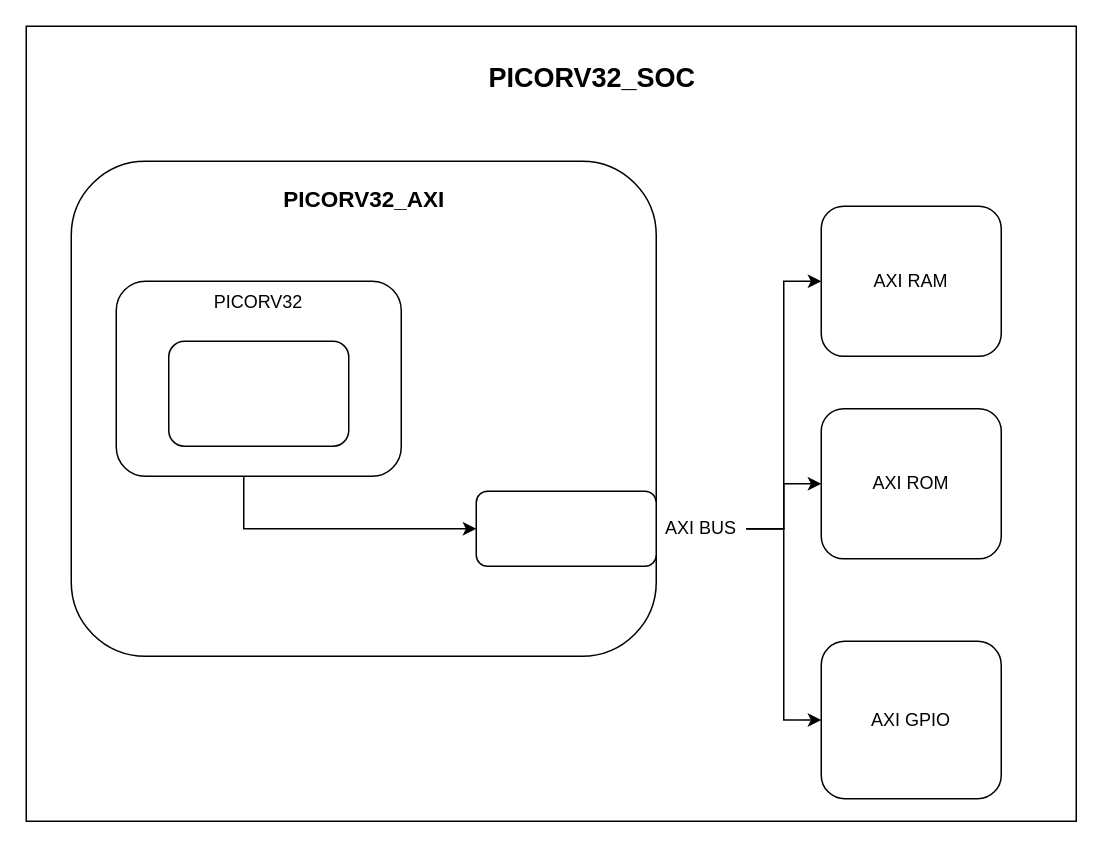
Some shapes in this 1103 by 848 pixel diagram are drawn without their labels. Here are the shapes that lost their labels. From the top down, the box of each, then its label:
(167, 340, 349, 446): PCPI Modules
(475, 490, 656, 566): AXI Adapter
